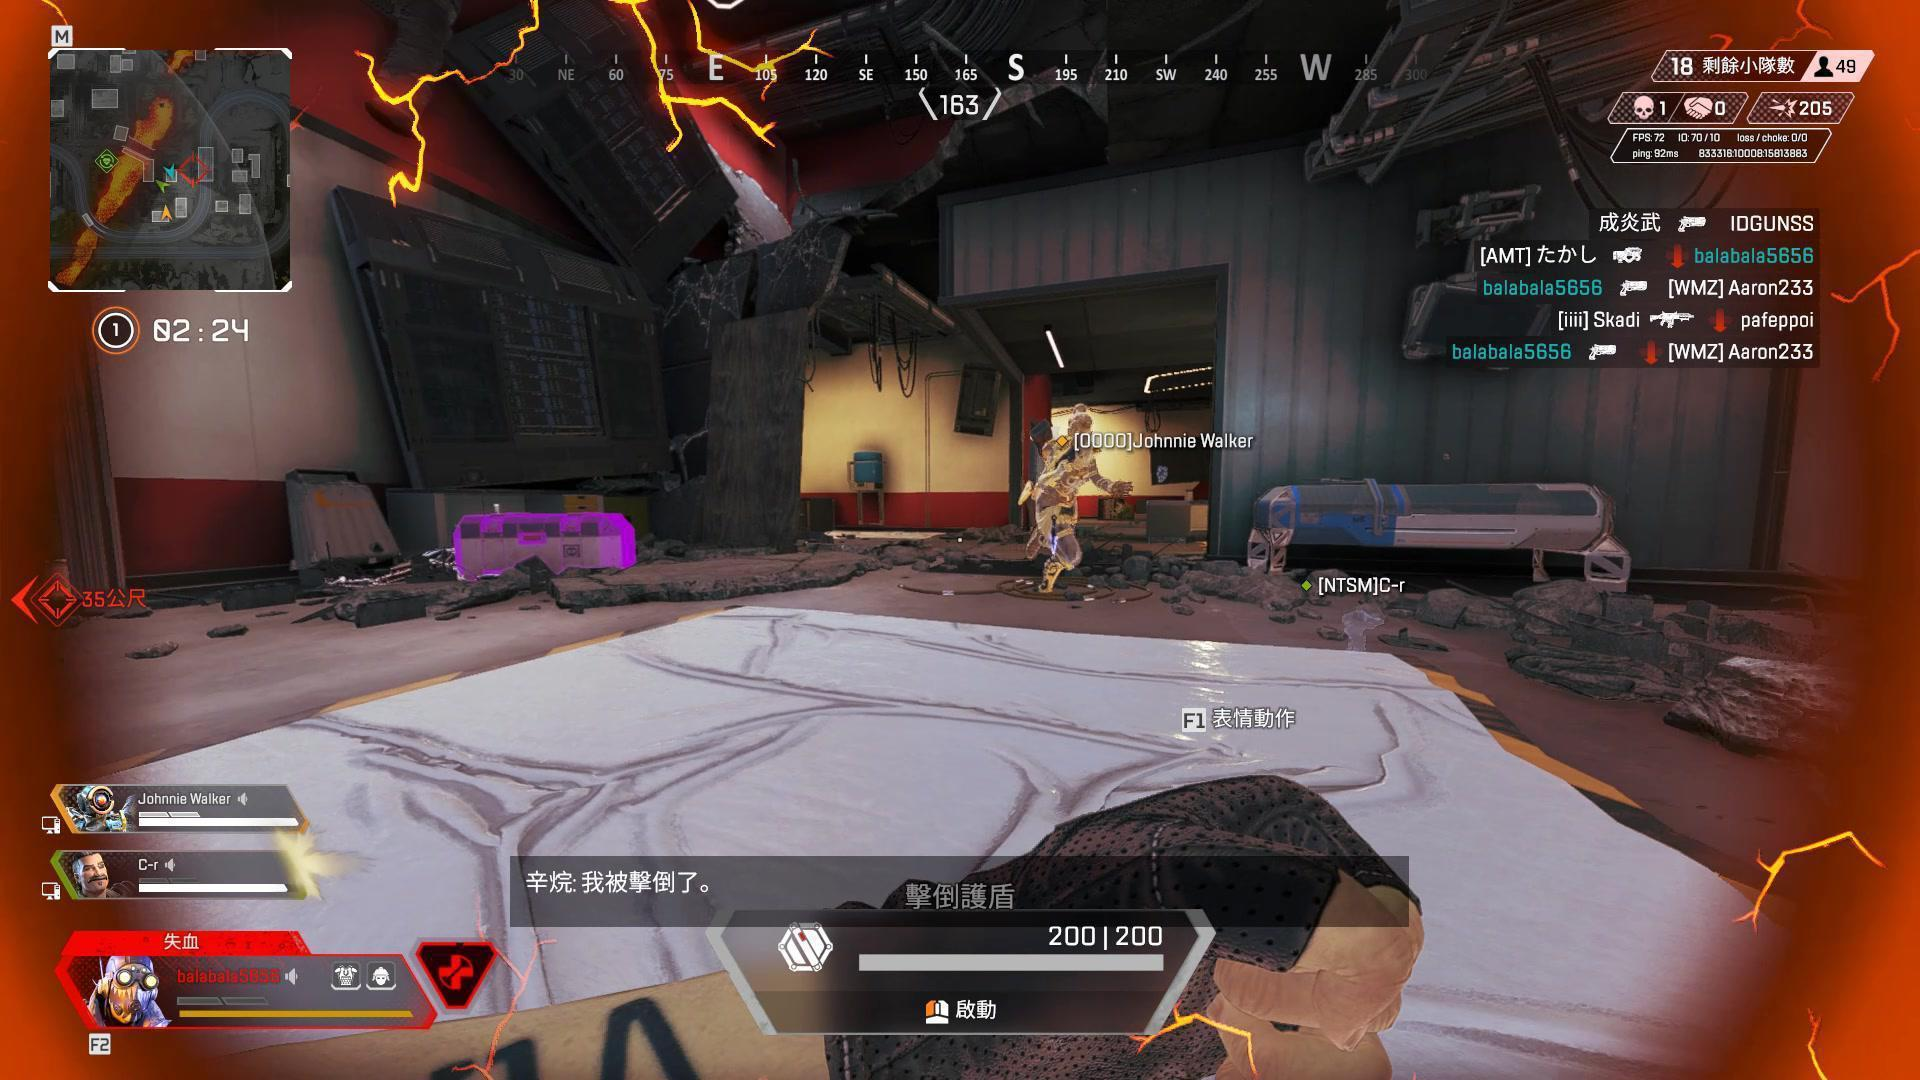avatar: (1030, 410, 1099, 597)
